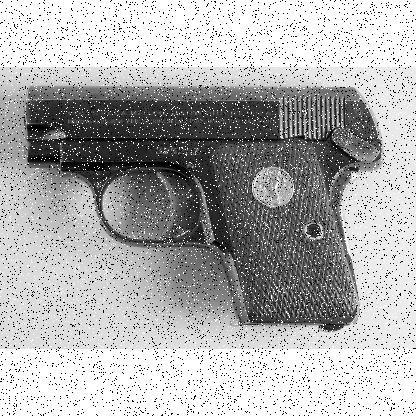gun: (23, 84, 384, 332)
